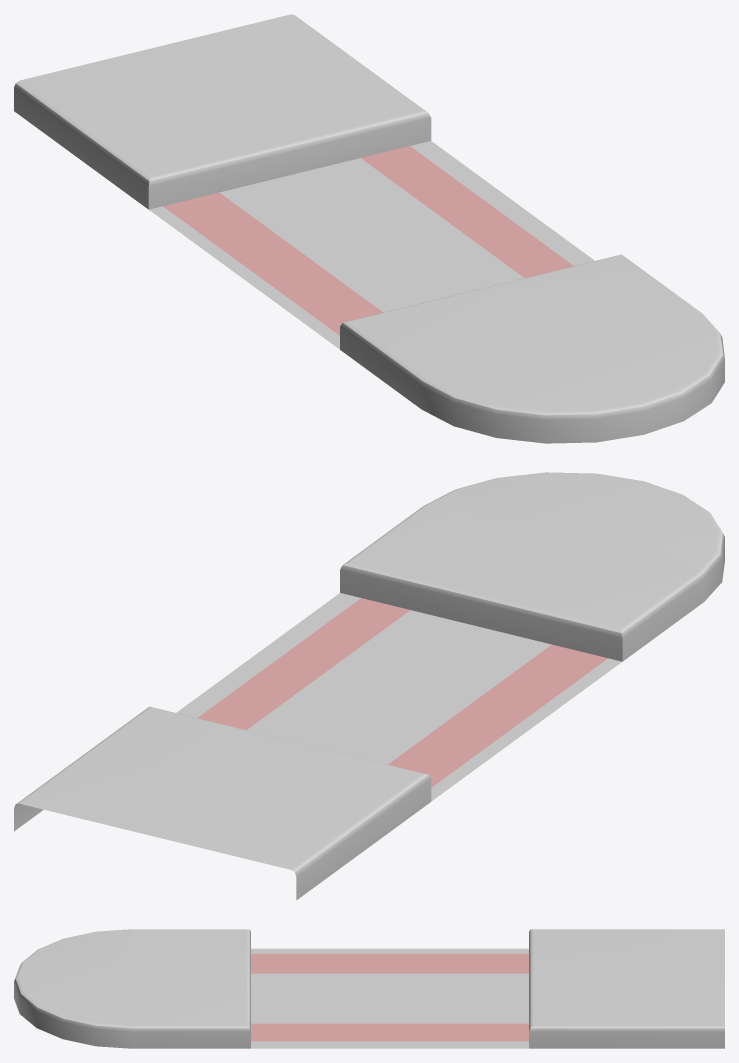
The model's file is refugeIslandPassage.fbx.
3 renders of one model, top to bottom at view 1: azimuth 30°, elevation 25°; view 2: azimuth 150°, elevation 25°; view 3: azimuth 270°, elevation 25°, orthographic. The views are drawn at different scales.
Visible parts, largest first — view 1: refugeIslandPassage_geo; view 2: refugeIslandPassage_geo; view 3: refugeIslandPassage_geo.
Boxes of the visible parts, x1,y1,x2,y2 form: refugeIslandPassage_geo: (14, 14, 724, 443); refugeIslandPassage_geo: (14, 472, 724, 900); refugeIslandPassage_geo: (14, 929, 724, 1048).
Size of the model in its own units: 200 by 19.8 by 600.
